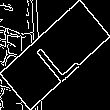L_NW: (28, 26, 82, 84)
